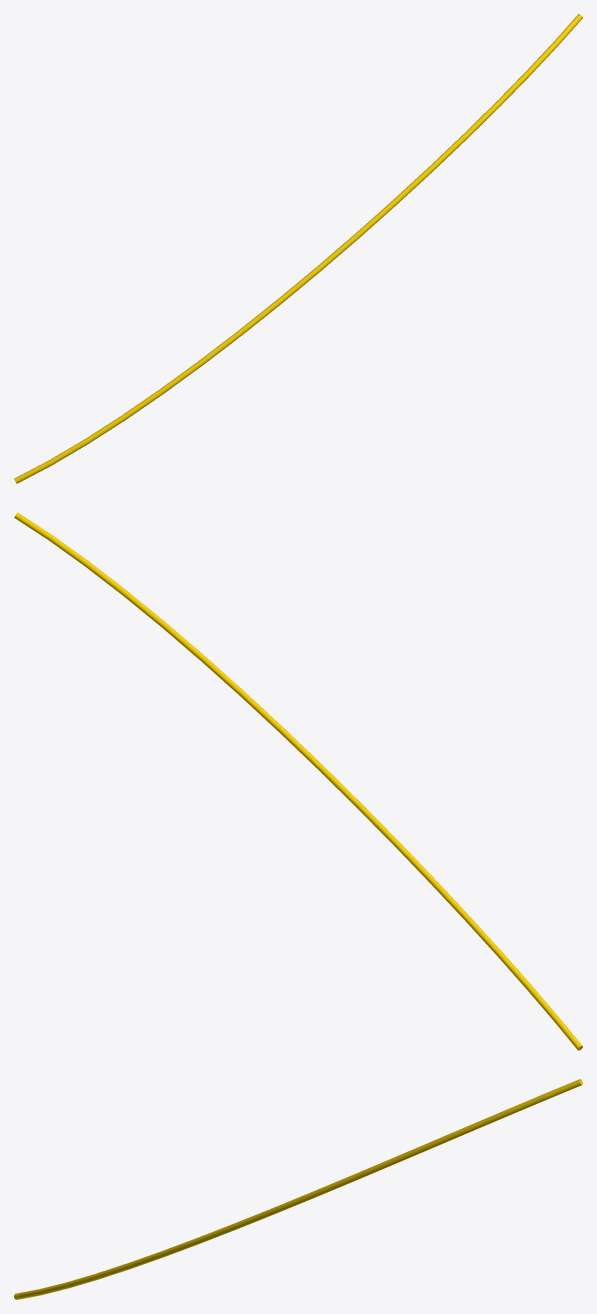
File: Event_421115418_track_181.fbx
3 views of the same model, one above another, from view 1: azimuth 30°, elevation 25°; view 2: azimuth 150°, elevation 25°; view 3: azimuth 330°, elevation 25° (orthographic). The views are drawn at different scales.
Visible parts, largest first — view 1: Model; view 2: Model; view 3: Model.
Boxes of the visible parts, x1=… form: Model: x1=14, y1=14, x2=582, y2=483; Model: x1=14, y1=512, x2=582, y2=1050; Model: x1=14, y1=1079, x2=582, y2=1299.
Bounding box in the file's own units: 4.2 × 2.58 × 0.4841.
